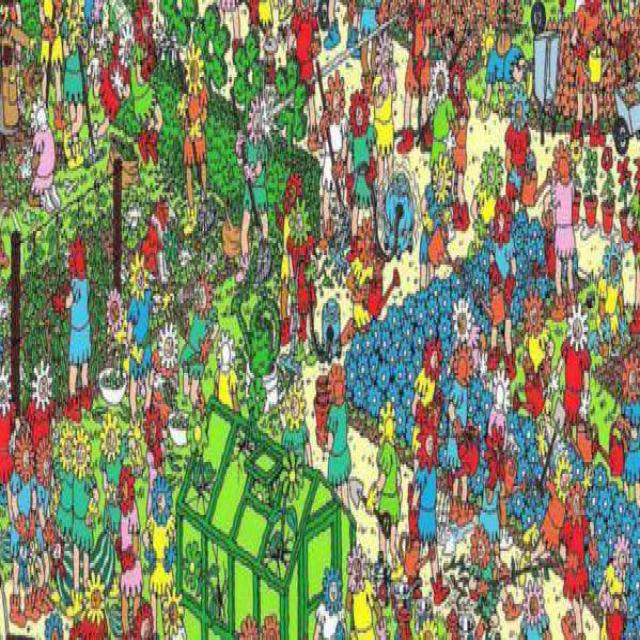waldo: (440, 24, 454, 63)
